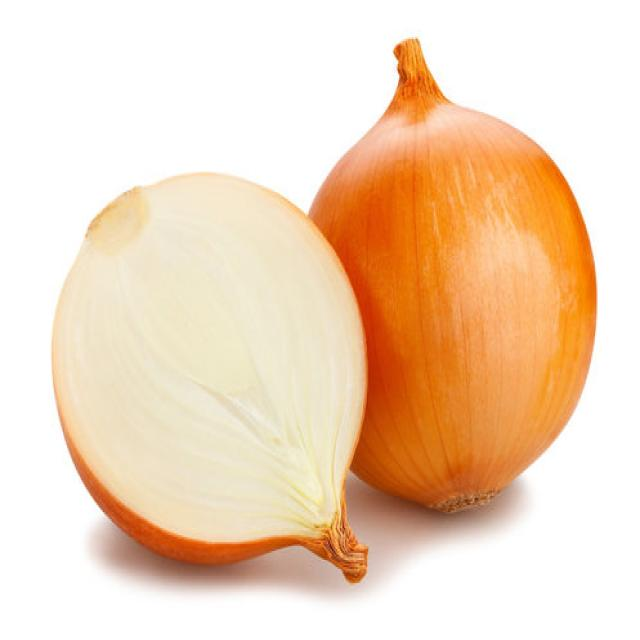Onion: (306, 36, 598, 514), (50, 169, 370, 583)
